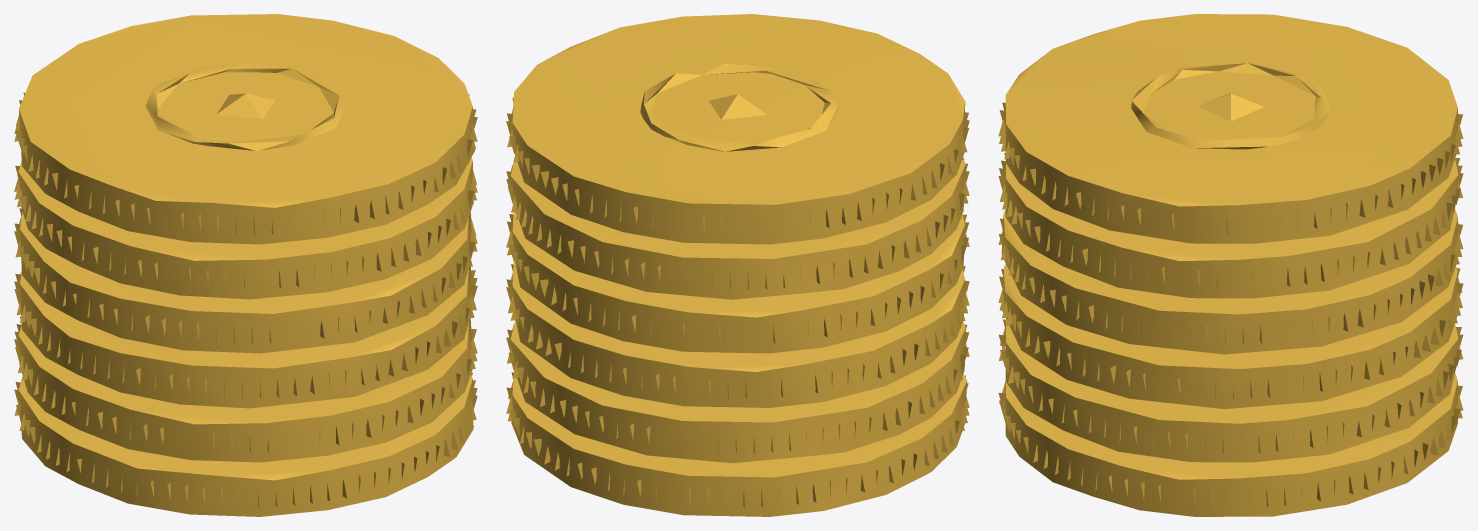
File: SM_CoinStack_01.fbx
3 views of the same model, side by side, from view 1: azimuth 30°, elevation 25°; view 2: azimuth 150°, elevation 25°; view 3: azimuth 270°, elevation 25° (orthographic).
Visible parts, largest first — view 1: SM_CoinStack_01; view 2: SM_CoinStack_01; view 3: SM_CoinStack_01.
Part boxes in pixels (x1,y1,x2,y2): SM_CoinStack_01: (14, 14, 477, 516); SM_CoinStack_01: (506, 14, 969, 516); SM_CoinStack_01: (998, 14, 1463, 516).
Bounding box in the file's own units: 1.02 × 0.7959 × 1.02.
1 material, 1 textured.
